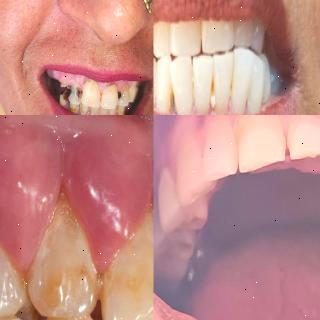Gum Swelling: (0, 123, 154, 275)
calculus: (205, 69, 219, 115), (162, 87, 182, 115), (189, 79, 201, 113)
cavities: (68, 82, 82, 104), (59, 88, 69, 104), (116, 86, 124, 102)
maligned: (171, 56, 194, 114), (233, 47, 252, 115), (249, 47, 263, 115)
plaque: (83, 256, 111, 308), (228, 115, 250, 147), (78, 105, 89, 115), (109, 107, 119, 115), (89, 108, 99, 115), (100, 109, 110, 115)
stains: (97, 86, 107, 105)
